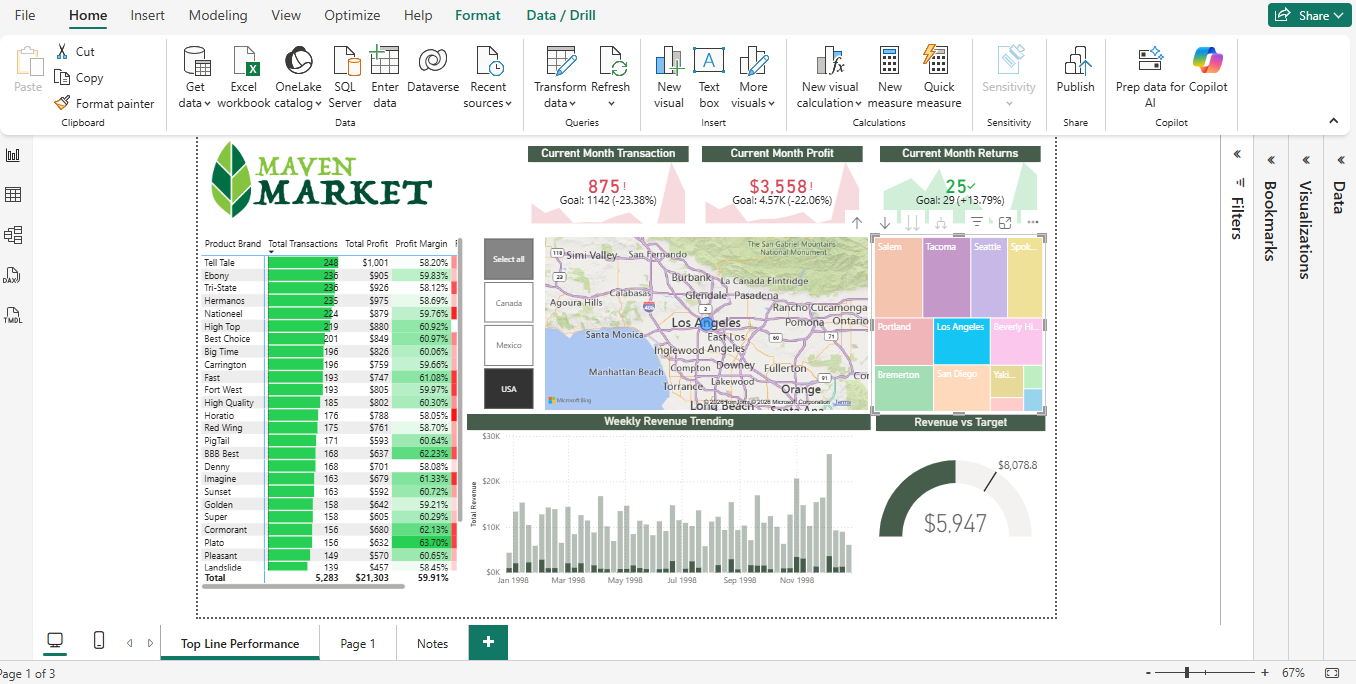

The page's visual inventory and layout, read from the dashboard file:
{"tool":"powerbi","page":{"name":"Top Line Performance","canvas":[1280,720],"ordinal":0},"visuals":[{"type":"image","box":[10.5,0,346,132],"z":0},{"type":"pivotTable","fields":{"Values":["Transaction Data.Total Transactions","Transaction Data.Total Profit","Transaction Data.Profit Margin","Return_Data.Return Rate"],"Rows":["Products.product_brand"]},"box":[0,147.9,401,536],"z":1000},{"type":"kpi","title":"Current Month Transaction","fields":{"Indicator":["Transaction Data.Total Transactions"],"TrendLine":["Calendar.Start of Month"],"Goal":["Transaction Data.Last Month Transactions"]},"box":[492.9,16.4,240,121],"z":2000},{"type":"kpi","title":"Current Month Profit","fields":{"Indicator":["Transaction Data.Total Profit"],"TrendLine":["Calendar.Start of Month"],"Goal":["Transaction Data.Last Month Profit"]},"box":[752.5,16.8,240,120.9],"z":3000},{"type":"kpi","title":"Current Month Returns","fields":{"Indicator":["Return_Data.Total Returns"],"TrendLine":["Calendar.Start of Month"],"Goal":["Transaction Data.Last Month Returns"]},"box":[1018.8,16.4,240,121],"z":4000},{"type":"map","fields":{"Category":["Stores.store_city"],"Size":["Transaction Data.Total Transactions"]},"box":[513.3,148.3,491.7,268.3],"z":5000},{"type":"slicer","fields":{"Values":["Stores.store_country"]},"box":[401.7,148.3,123.3,268.3],"z":6000},{"type":"treemap","fields":{"Values":["Transaction Data.Total Transactions"],"Group":["Stores.store_country","Stores.store_state","Stores.store_city"]},"box":[1005,148.3,261.7,270],"z":7000},{"type":"columnChart","title":"Weekly Revenue Trending","fields":{"Y":["Transaction Data.Total Revenue"],"Category":["Calendar.Start of Week"]},"box":[401.7,416.7,603.3,266.7],"z":8000},{"type":"gauge","title":" Revenue vs Target","fields":{"Y":["Transaction Data.Total Revenue"],"TargetValue":["Transaction Data.Revenue Target"]},"box":[1013.3,418.3,253.3,230],"z":9000}]}

Visuals, with their boxes on the page's 1280x720 design canvas (x1, y1, x2, y2). These are canvas units, not pixel positions in the 1356x684 screenshot, which may show the page scaled, cropped or inside an application window:
image: pyautogui.locateOnScreen(10, 0, 356, 132)
pivotTable - Transaction Data.Total Transactions x Transaction Data.Total Profit: pyautogui.locateOnScreen(0, 148, 401, 684)
"Current Month Transaction" kpi: pyautogui.locateOnScreen(493, 16, 733, 137)
"Current Month Profit" kpi: pyautogui.locateOnScreen(752, 17, 992, 138)
"Current Month Returns" kpi: pyautogui.locateOnScreen(1019, 16, 1259, 137)
map - Stores.store_city x Transaction Data.Total Transactions: pyautogui.locateOnScreen(513, 148, 1005, 417)
slicer - Stores.store_country: pyautogui.locateOnScreen(402, 148, 525, 417)
treemap - Transaction Data.Total Transactions x Stores.store_country: pyautogui.locateOnScreen(1005, 148, 1267, 418)
"Weekly Revenue Trending" columnChart: pyautogui.locateOnScreen(402, 417, 1005, 683)
" Revenue vs Target" gauge: pyautogui.locateOnScreen(1013, 418, 1267, 648)
